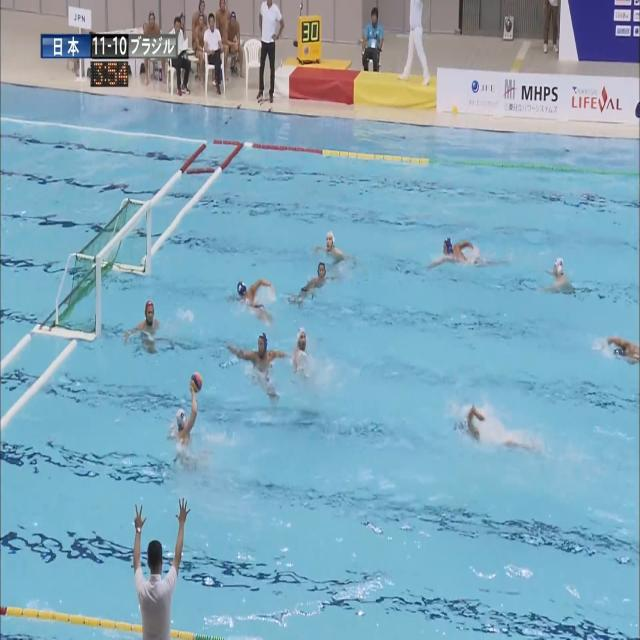ball: (190, 373, 202, 392)
